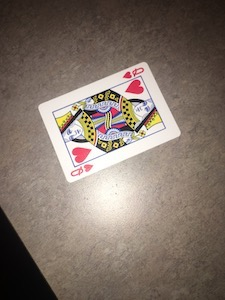QueenOfHearts: (34, 60, 188, 186)
